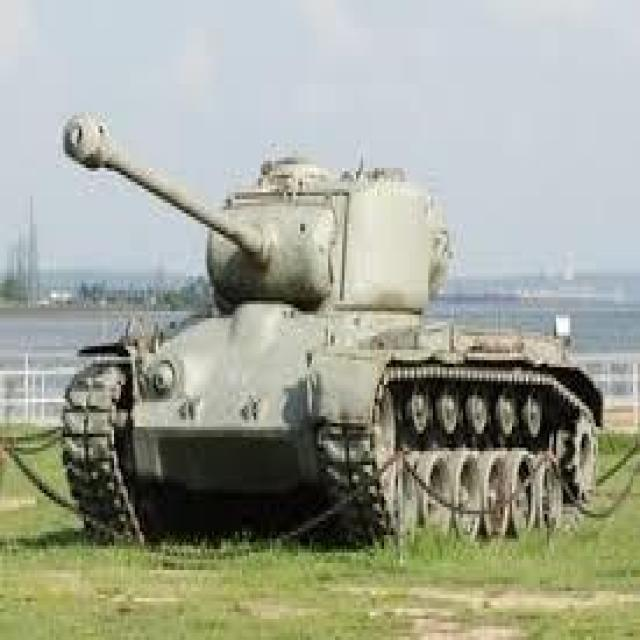MIL_MBT: (43, 30, 574, 603)
